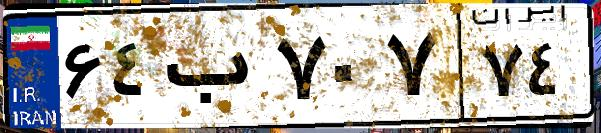0: (330, 28, 385, 110)
4: (525, 38, 570, 115), (110, 28, 158, 98)
6: (57, 26, 110, 100)
7: (270, 28, 330, 110), (385, 28, 445, 110), (475, 38, 525, 113)
ب: (158, 20, 270, 120)
